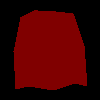abbigliamento_uomo: (13, 9, 87, 90)
